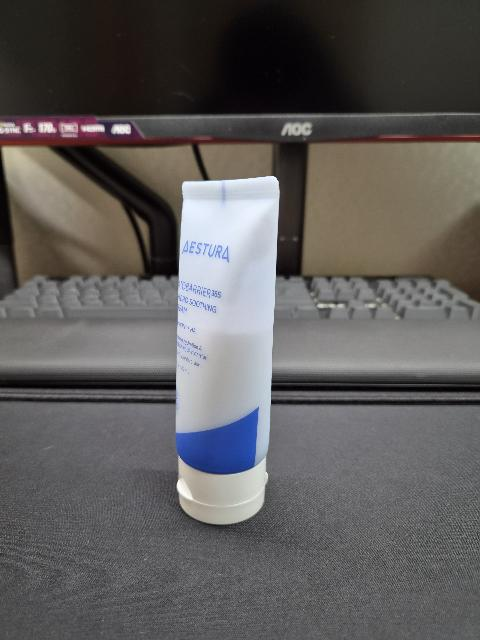handcream: (176, 176, 280, 524)
